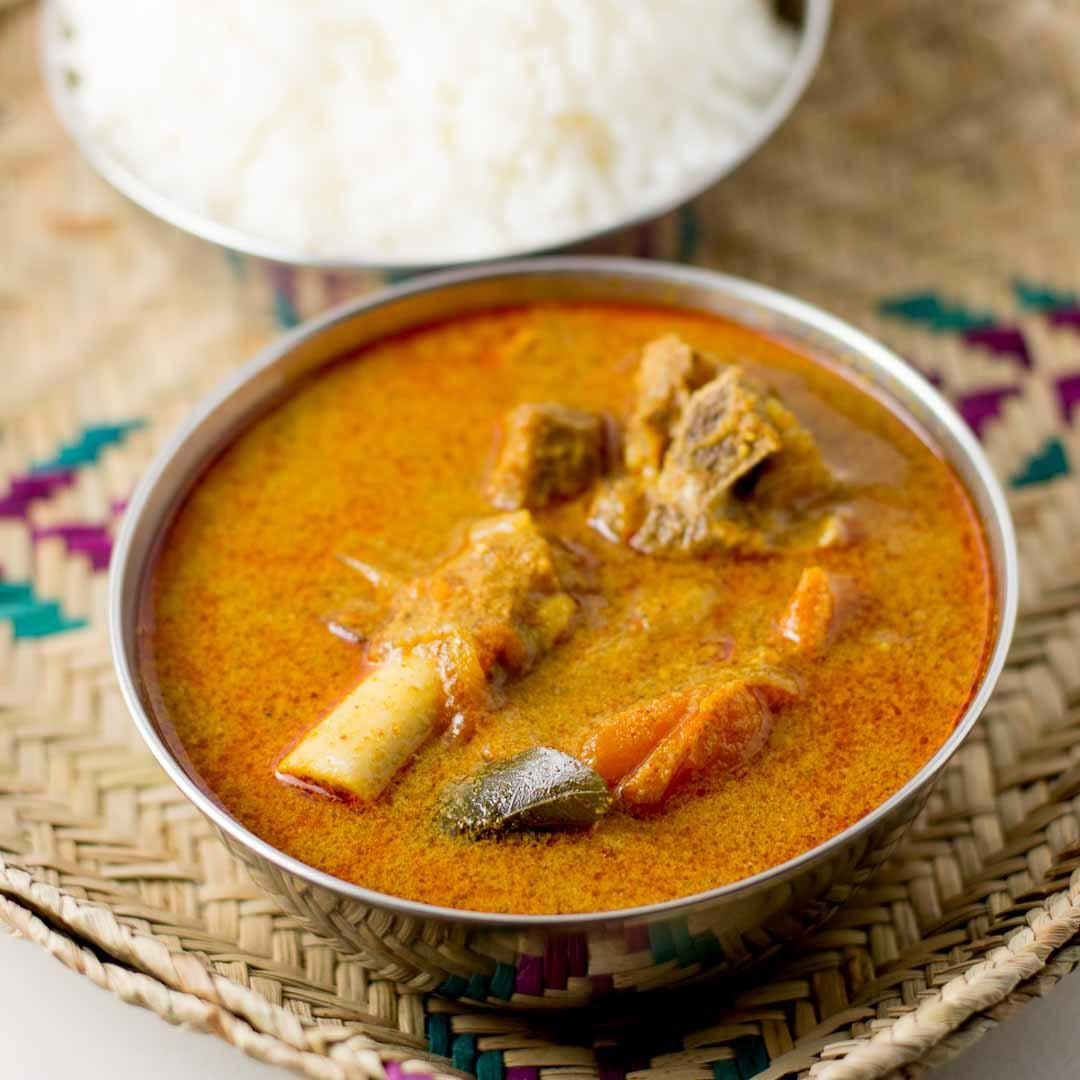MuttonCurry: (143, 302, 995, 918)
WhiteRice: (64, 0, 798, 258)
